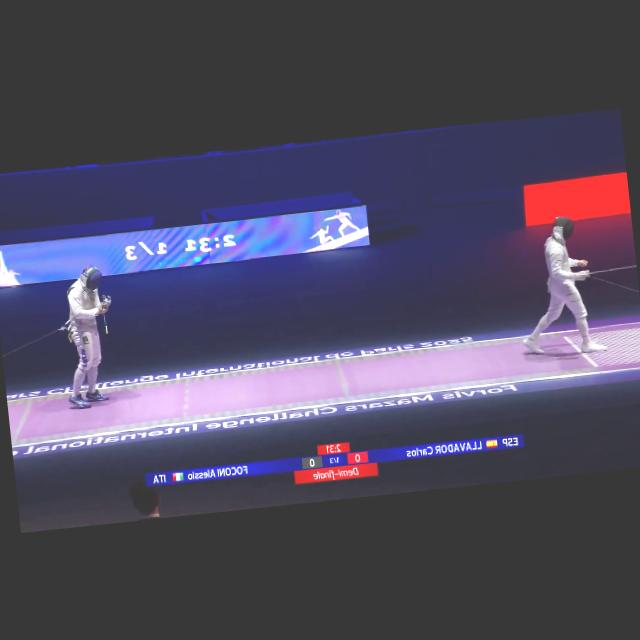blade: (582, 261, 637, 278), (96, 296, 112, 338)
